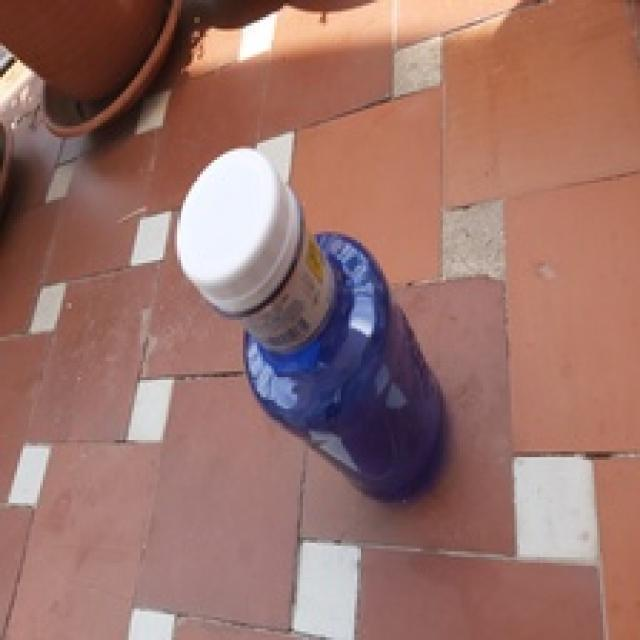Plastic: (180, 151, 449, 500)
